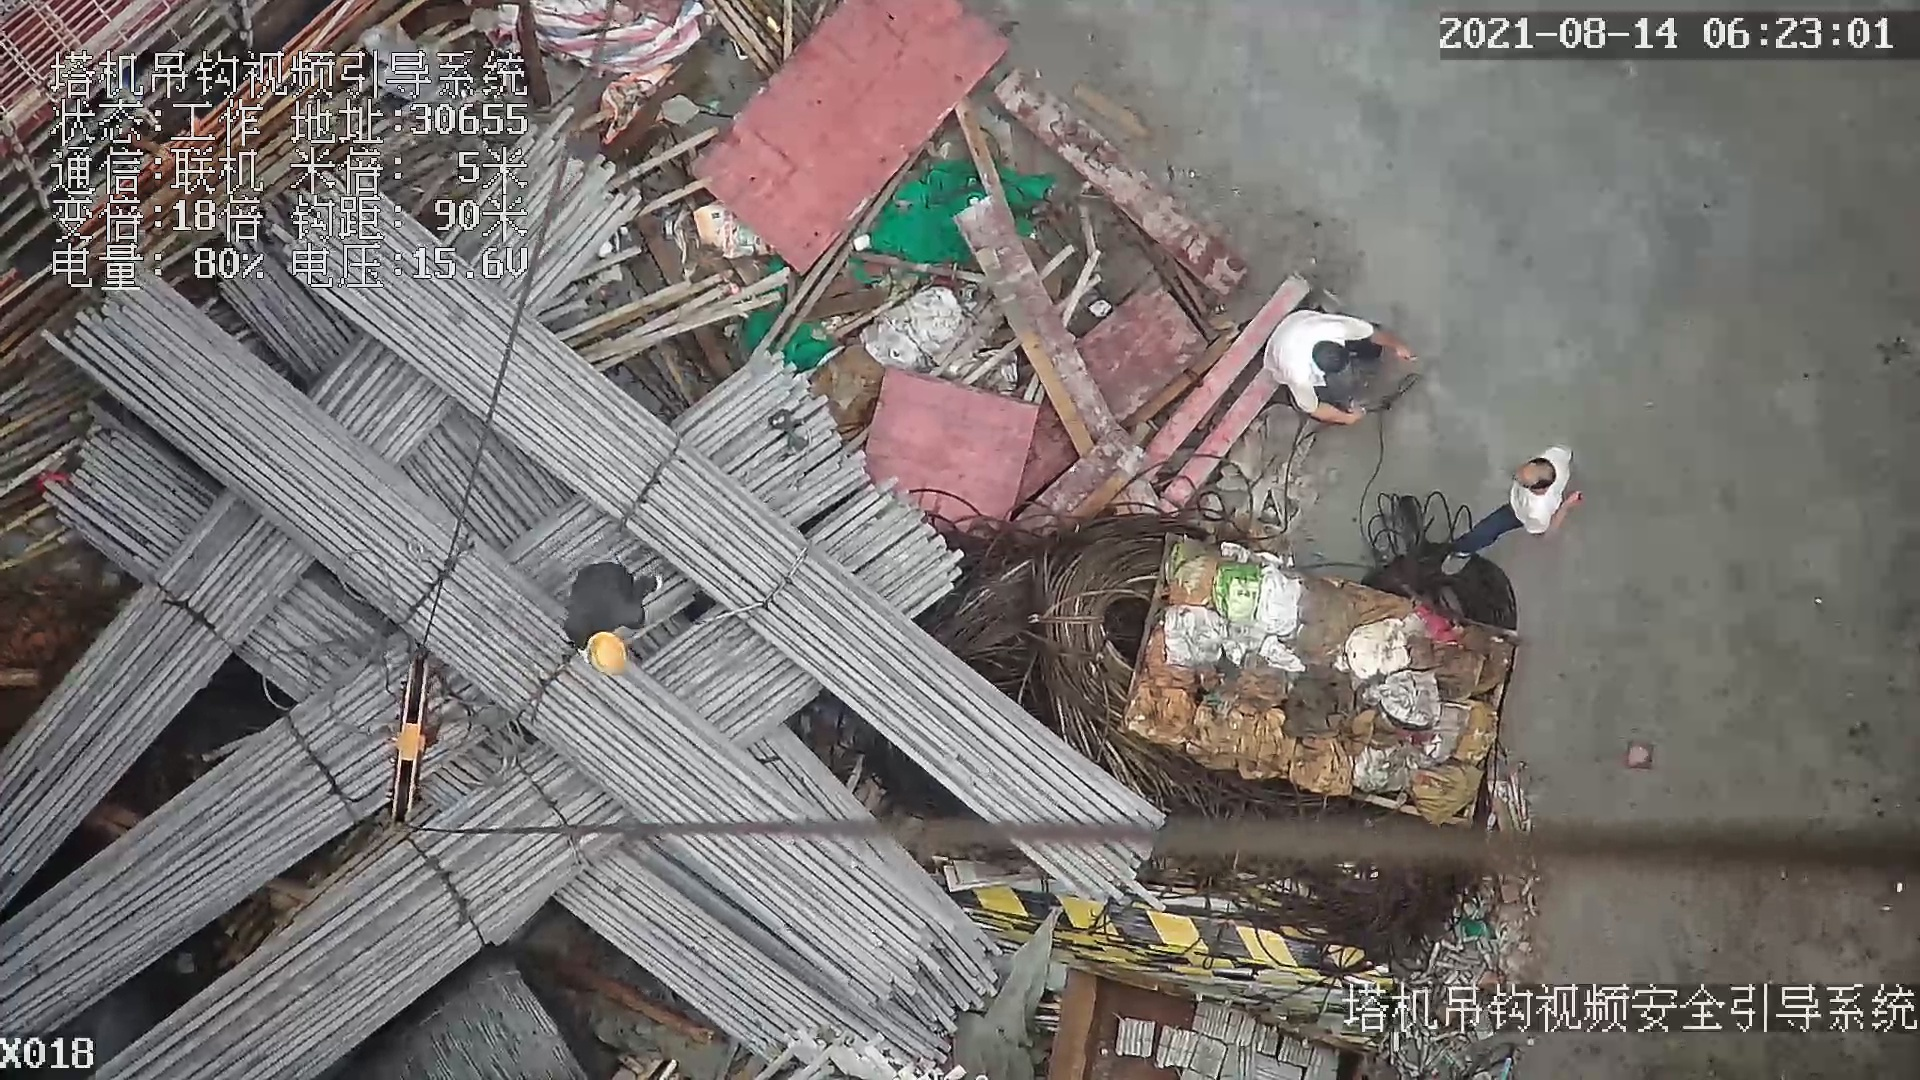board: (677, 1, 1019, 279)
helmet: (585, 630, 625, 675)
hook: (379, 656, 449, 828)
person: (1260, 309, 1423, 435), (1451, 435, 1587, 580), (569, 562, 667, 677)
